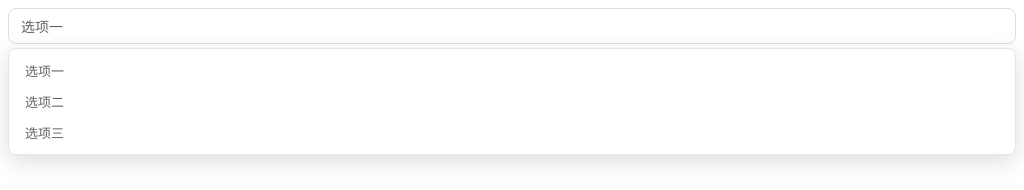
Test case: Select 选择器组件 › 选中项添加 is-selected 类名
Click the element with class "easy-select__wrapper" at coordinates (512, 26), box left=8, top=8, right=1016, bottom=44
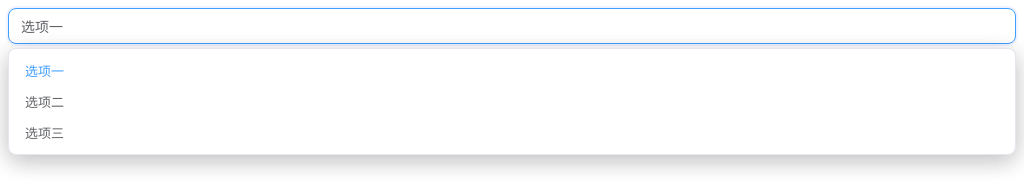
Result: the element with class "is-selected" is shown at left=25, top=64, right=64, bottom=79
